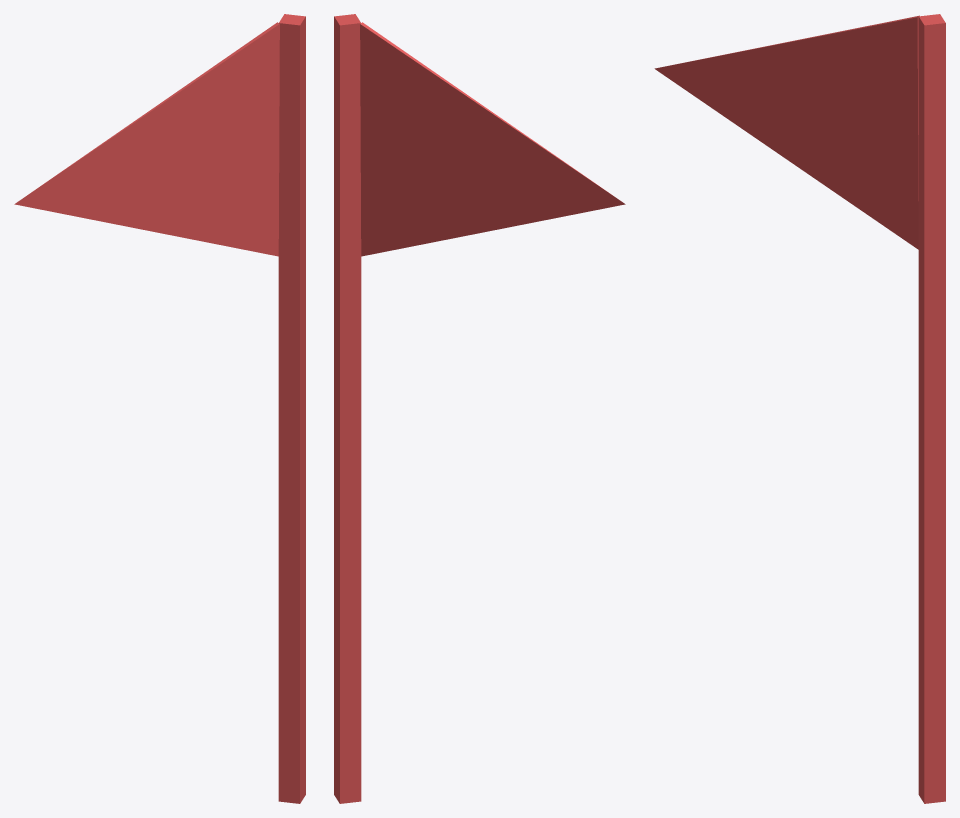
The model's file is mesh_checkpoint_COLLISION.fbx.
3 renders of one model, left to right at view 1: azimuth 30°, elevation 25°; view 2: azimuth 150°, elevation 25°; view 3: azimuth 330°, elevation 25°, orthographic.
Visible parts, largest first — view 1: mesh_checkpoint_COLLISION; view 2: mesh_checkpoint_COLLISION; view 3: mesh_checkpoint_COLLISION.
Boxes of the visible parts, left/top/right/bottom form: mesh_checkpoint_COLLISION: left=14, top=14, right=305, bottom=803; mesh_checkpoint_COLLISION: left=334, top=14, right=625, bottom=803; mesh_checkpoint_COLLISION: left=654, top=14, right=945, bottom=803.
Bounding box in the file's own units: 1.22 × 3.11 × 0.1131.
